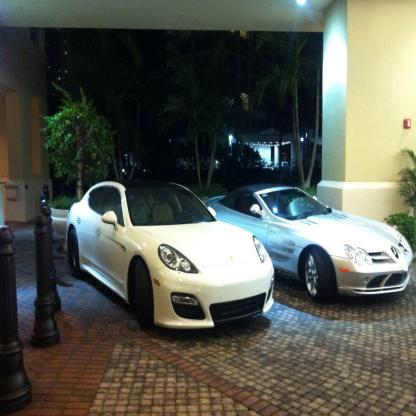Car: (66, 180, 274, 329), (206, 187, 413, 305)
